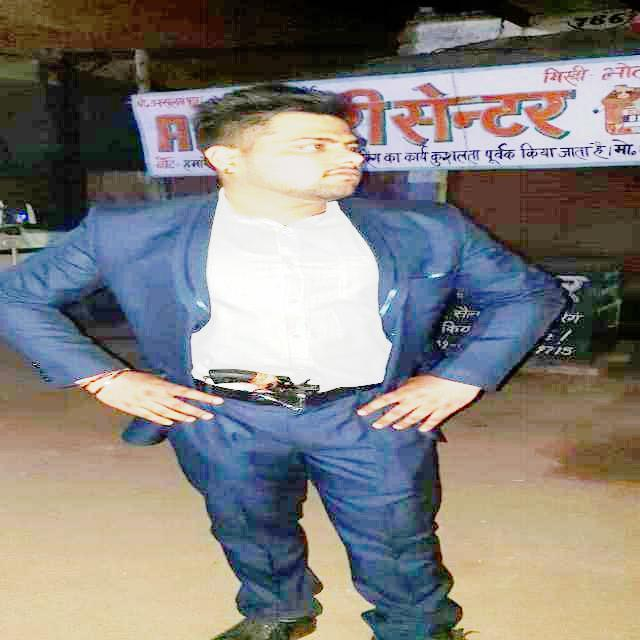Gun: (212, 362, 326, 410)
